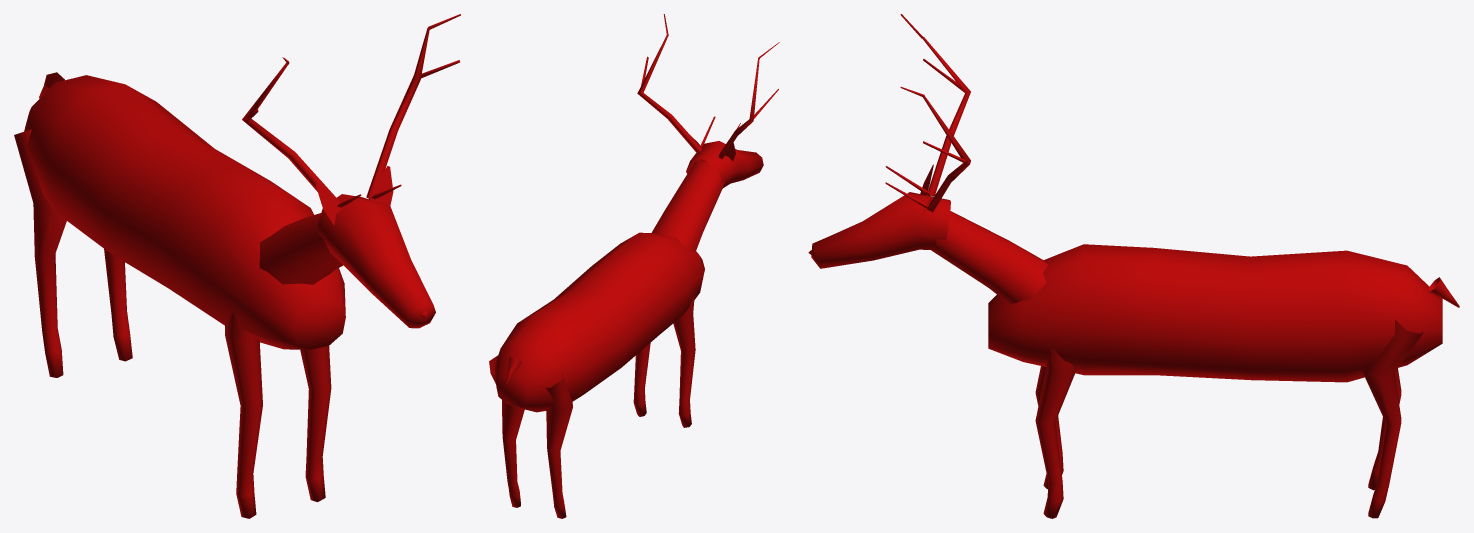
File: reindeer.glb
3 renders of one model, left to right at view 1: azimuth 30°, elevation 25°; view 2: azimuth 150°, elevation 25°; view 3: azimuth 270°, elevation 25°, orthographic. The views are drawn at different scales.
Visible parts, largest first — view 1: body, head, leg_lf, leg_lh, leg_rf, leg_rh; view 2: body, head, leg_lh, leg_lf, leg_rh, leg_rf; view 3: body, head, leg_rh, leg_rf.
Part boxes in pixels (x1=…): body: x1=24, y1=75, x2=345, y2=349; head: x1=242, y1=14, x2=460, y2=328; leg_lf: x1=225, y1=310, x2=262, y2=518; leg_lh: x1=14, y1=129, x2=66, y2=377; leg_rf: x1=300, y1=345, x2=331, y2=502; leg_rh: x1=104, y1=249, x2=132, y2=361; body: x1=494, y1=232, x2=704, y2=412; head: x1=637, y1=14, x2=779, y2=251; leg_lh: x1=545, y1=370, x2=572, y2=518; leg_lf: x1=673, y1=292, x2=695, y2=427; leg_rh: x1=489, y1=355, x2=524, y2=507; leg_rf: x1=633, y1=343, x2=650, y2=416; body: x1=988, y1=244, x2=1442, y2=382; head: x1=808, y1=14, x2=1048, y2=304; leg_rh: x1=1362, y1=320, x2=1422, y2=518; leg_rf: x1=1035, y1=347, x2=1076, y2=518.
Size of the model in its own units: 0.7656 by 1.95 by 2.53.
